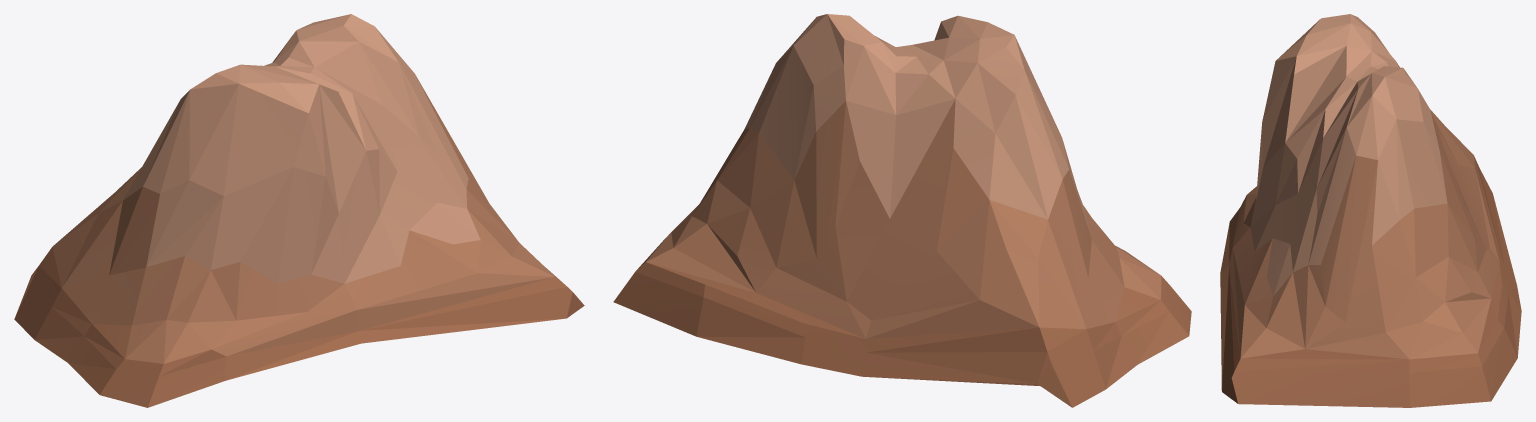
File: mountain_10.fbx
3 renders of one model, left to right at view 1: azimuth 30°, elevation 25°; view 2: azimuth 150°, elevation 25°; view 3: azimuth 270°, elevation 25°, orthographic. The views are drawn at different scales.
Parts seen in each view (by area): view 1: mountain_10; view 2: mountain_10; view 3: mountain_10.
Boxes of the visible parts, <box> form: mountain_10: <box>14,14,584,407</box>; mountain_10: <box>613,14,1191,407</box>; mountain_10: <box>1220,14,1521,407</box>.
Size of the model in its own units: 2956 by 1659 by 1770.
